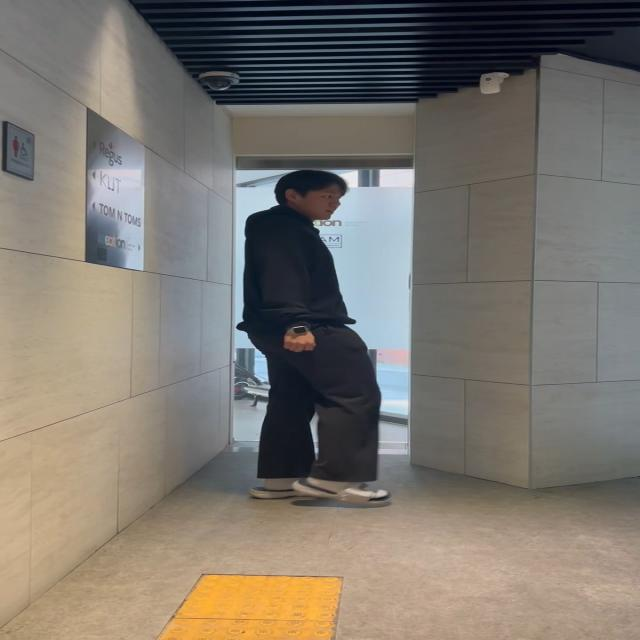leg: (282, 330, 402, 506)
